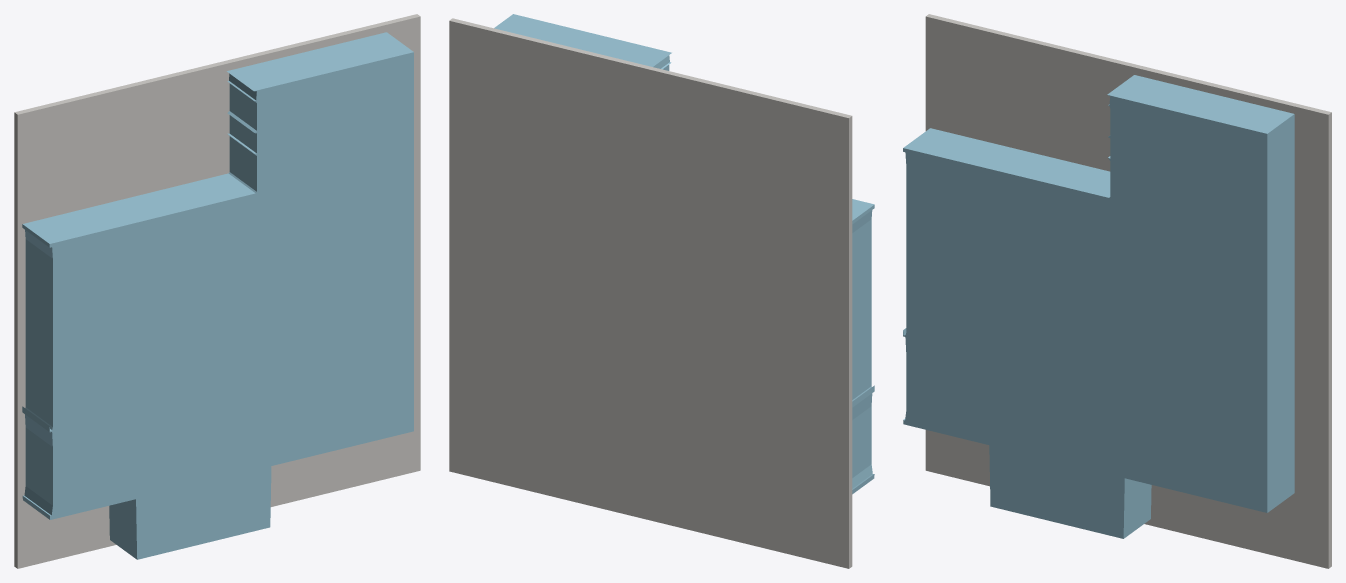
The picture shows the model from 3 angles, left to right: view 1: azimuth 30°, elevation 25°; view 2: azimuth 150°, elevation 25°; view 3: azimuth 330°, elevation 25°; orthographic projection.
Visible parts, largest first — view 1: world; view 2: world; view 3: world.
Boxes of the visible parts, x1,y1,x2,y2 form: world: [14, 14, 420, 568]; world: [449, 14, 874, 568]; world: [903, 14, 1331, 568].
Bounding box in the file's own units: 10.23 × 11.02 × 1.35.
